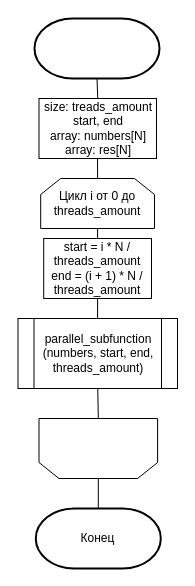
The diagram is 195 pixels wide and 586 high, and some of its shapes have lost their labels. Each missing label, with the box of its shape:
Начало: (33, 17, 160, 79)
Увеличить i на 1 Цикл i: (38, 418, 158, 478)
